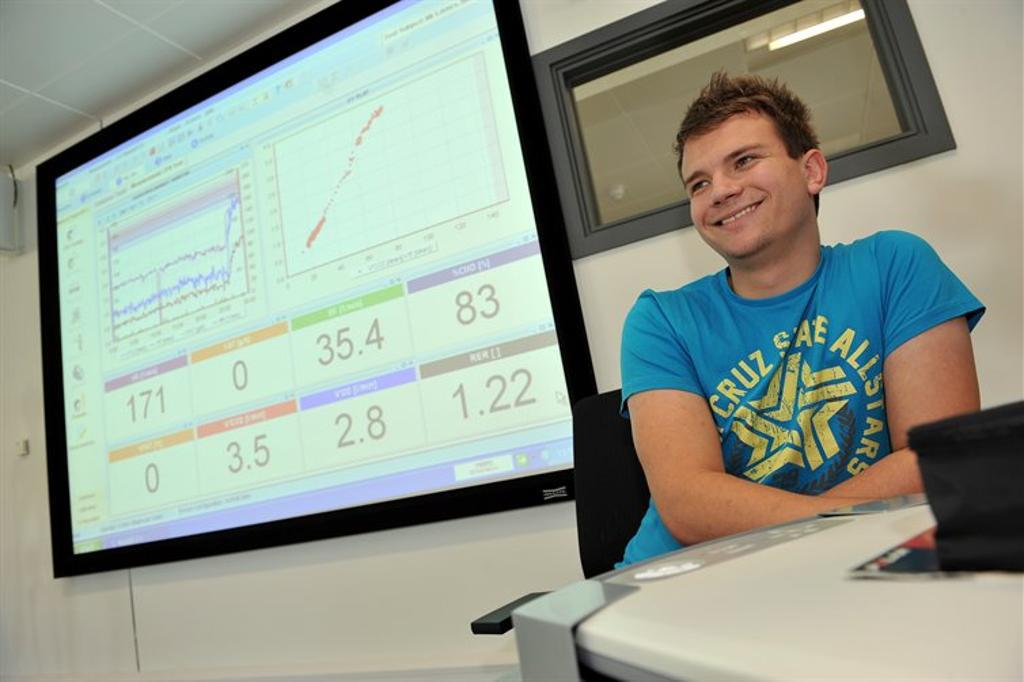face: (681, 121, 805, 257)
